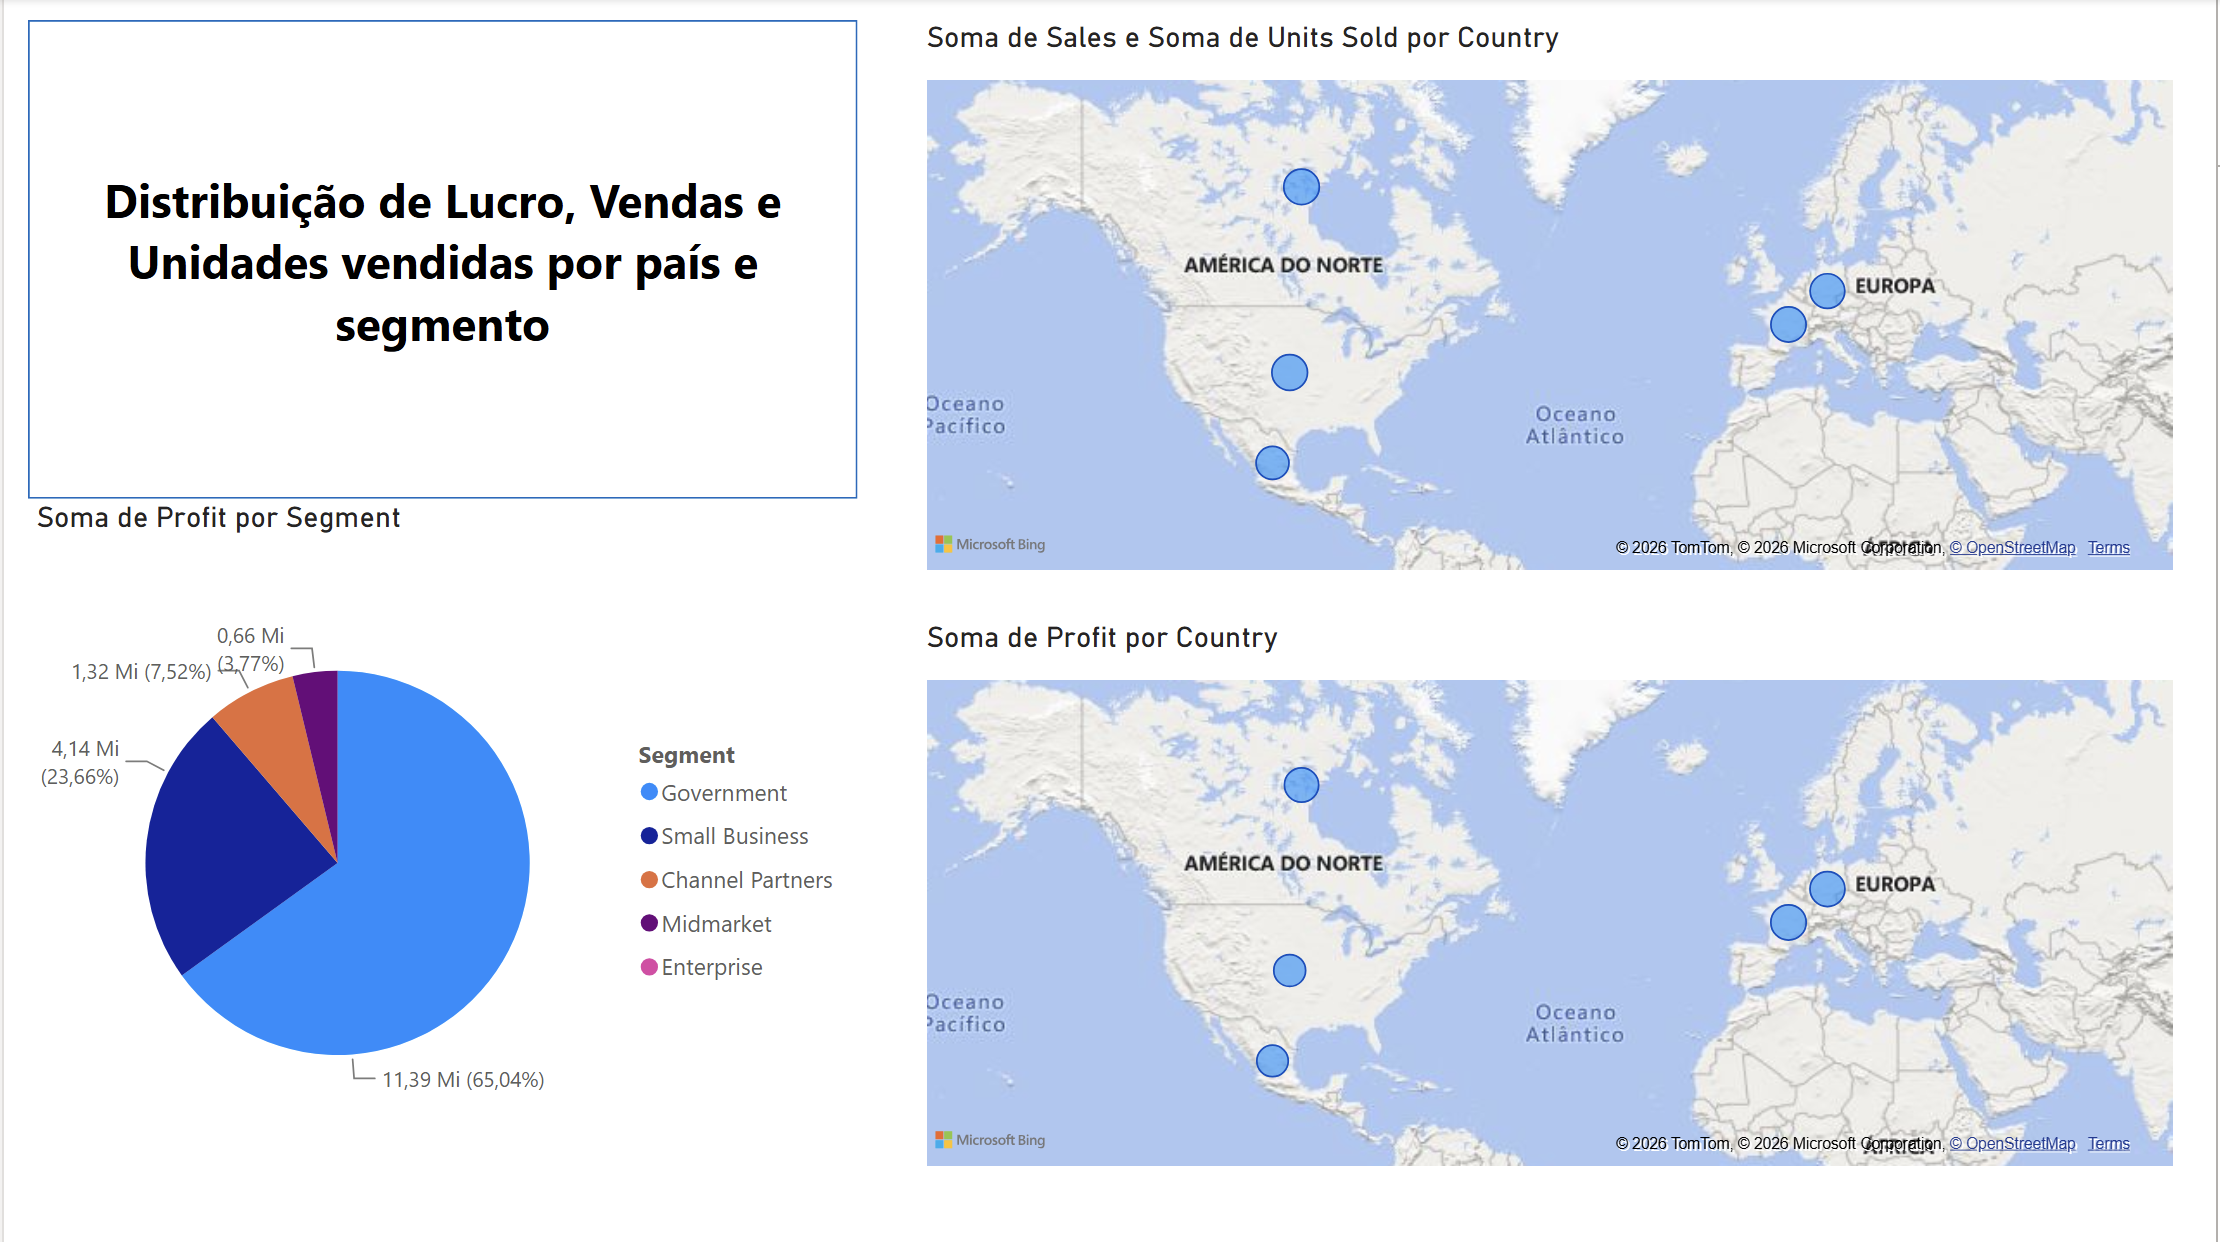

What the dashboard file says about the page in this screenshot:
{"tool":"powerbi","page":{"name":"Página 3","canvas":[1280,720],"ordinal":2},"visuals":[{"type":"pieChart","fields":{"Category":["financials.Segment"],"Y":["Sum(financials.Profit)"]},"box":[13.8,290,480.3,390],"z":0},{"type":"map","fields":{"Category":["financials.Country"],"Size":["Sum(financials. Sales)"]},"box":[528.9,12.7,731.4,322.9],"z":1000},{"type":"map","fields":{"Category":["financials.Country"],"Size":["Sum(financials.Profit)"]},"box":[528.9,359.9,731.4,320.6],"z":2000},{"type":"shape","box":[14,13,480,277],"z":2001}]}

Visuals, with their boxes in screenshot pixels (x1, y1, x2, y2), scaled from the page's 1280x720 canvas onto the 2220x1242 screenshot:
pieChart - financials.Segment x Sum(financials.Profit): [x1=24, y1=500, x2=857, y2=1173]
map - financials.Country x Sum(financials. Sales): [x1=917, y1=22, x2=2186, y2=579]
map - financials.Country x Sum(financials.Profit): [x1=917, y1=621, x2=2186, y2=1174]
shape: [x1=24, y1=22, x2=857, y2=500]
